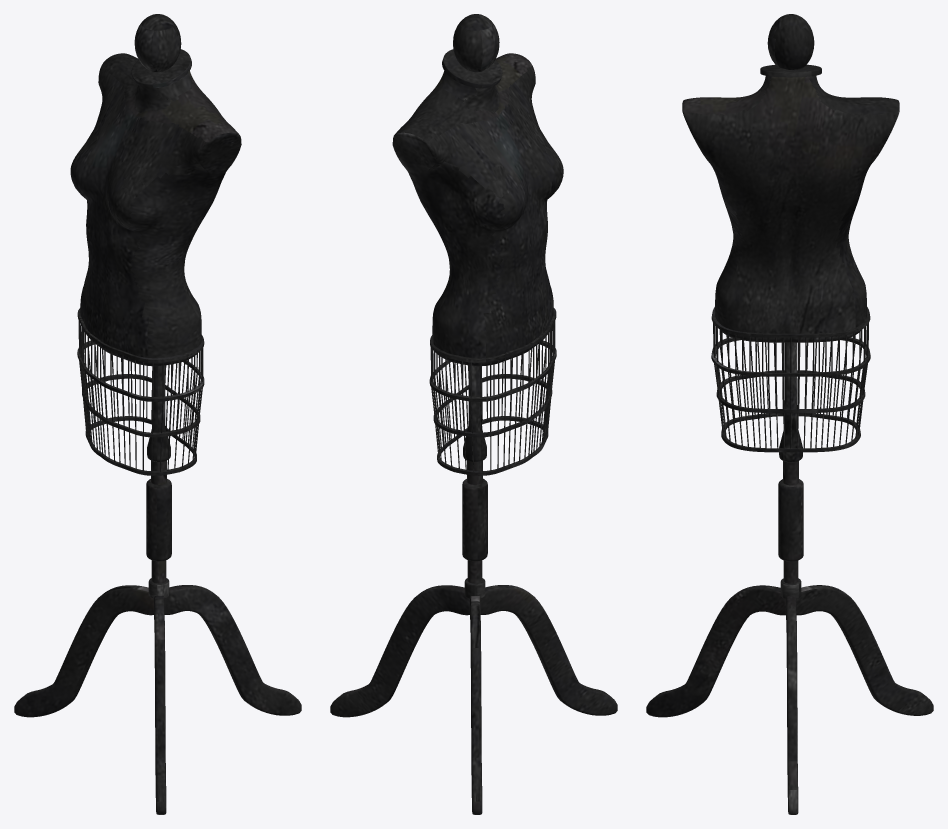
The model's file is SM_Horror_Attic_Mannequin.fbx.
3 views of the same model, side by side, from view 1: azimuth 30°, elevation 25°; view 2: azimuth 150°, elevation 25°; view 3: azimuth 270°, elevation 25° (orthographic).
Visible parts, largest first — view 1: SM_Horror_Attic_Mannequin; view 2: SM_Horror_Attic_Mannequin; view 3: SM_Horror_Attic_Mannequin.
Part boxes in pixels (x1,y1,x2,y2): SM_Horror_Attic_Mannequin: (14,14,301,814); SM_Horror_Attic_Mannequin: (330,14,617,814); SM_Horror_Attic_Mannequin: (646,14,933,814).
Bounding box in the file's own units: 52.29 × 59.76 × 168.
1 material, 1 textured.
